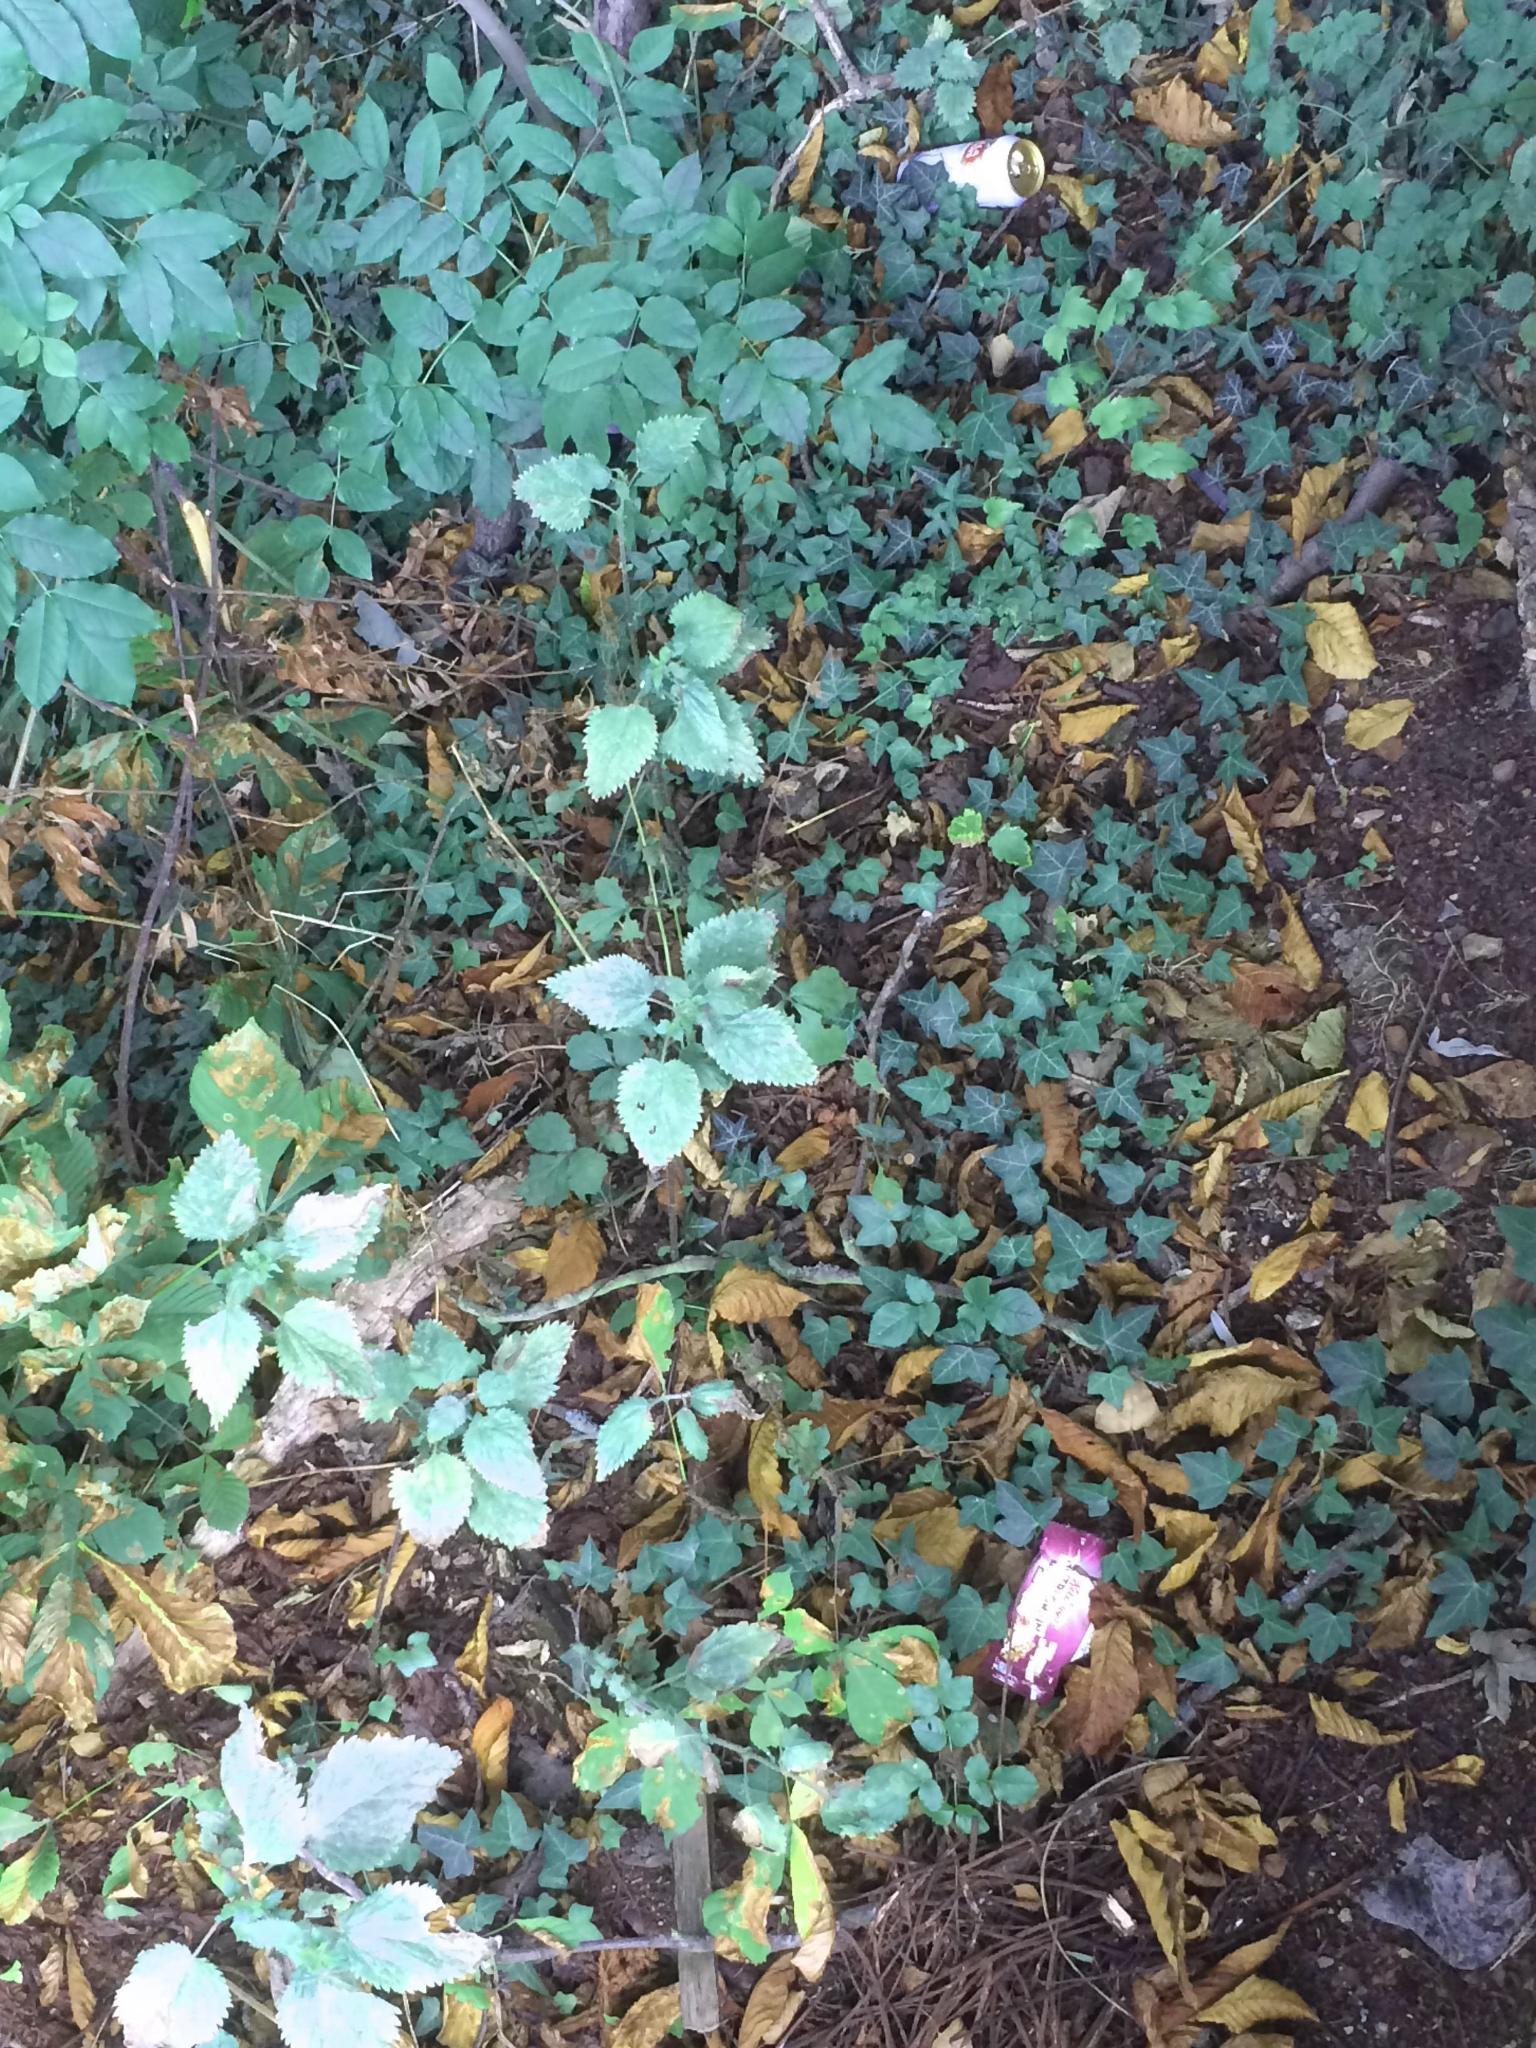Plastic: (984, 1513, 1121, 1711)
